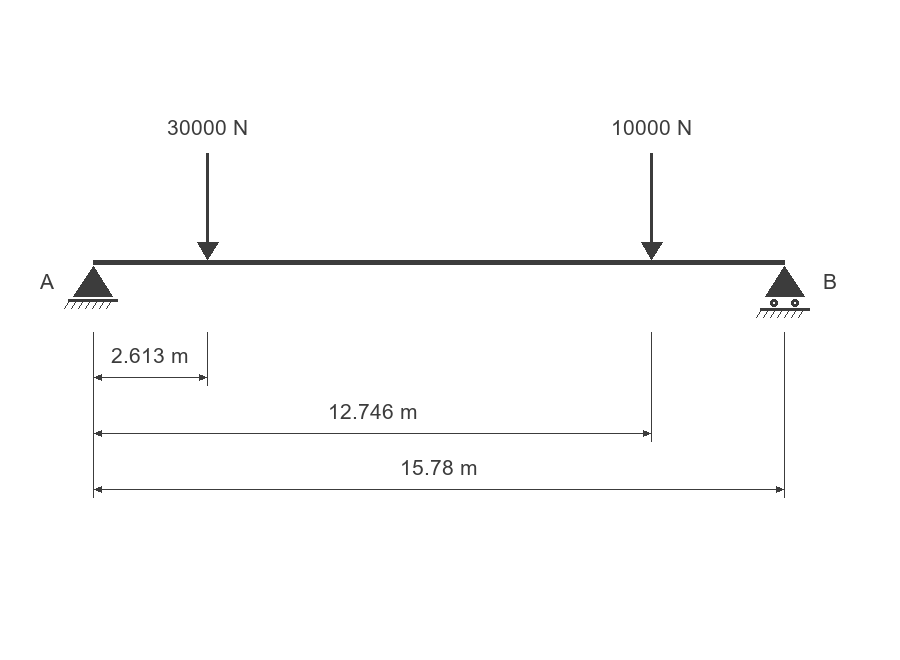pin_support: (64, 266, 118, 309)
point_load: (197, 153, 219, 260), (641, 153, 663, 260)
roller_support: (756, 266, 810, 318)
